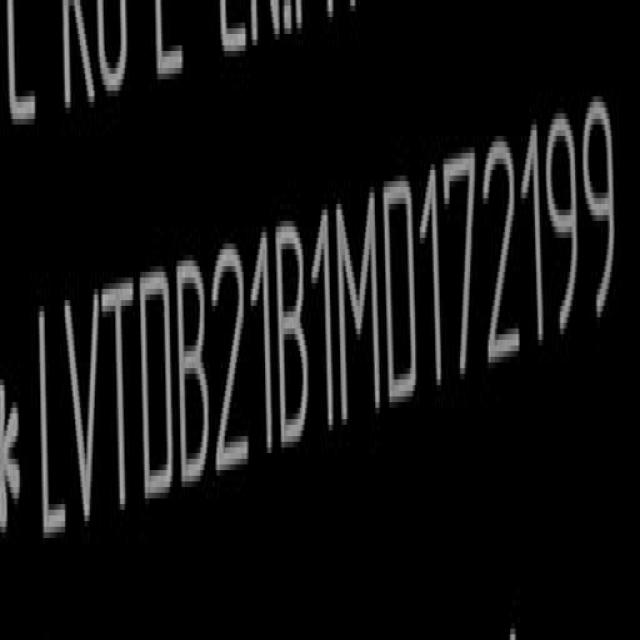1: (522, 120, 544, 362), (419, 160, 438, 399), (316, 206, 335, 439), (255, 238, 274, 465)
2: (484, 129, 520, 371), (215, 251, 248, 482)
7: (444, 144, 478, 385)
9: (584, 92, 620, 334), (545, 108, 579, 342)
B: (179, 257, 213, 493), (279, 220, 310, 452)
D: (138, 266, 174, 509), (388, 170, 418, 407)
L: (38, 295, 66, 549)
M: (340, 185, 384, 424)
T: (104, 273, 138, 526)
V: (64, 286, 102, 538)
